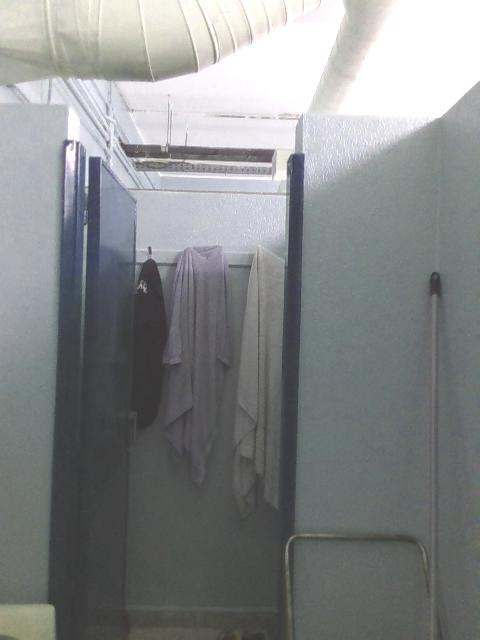open_door: (49, 103, 302, 639)
